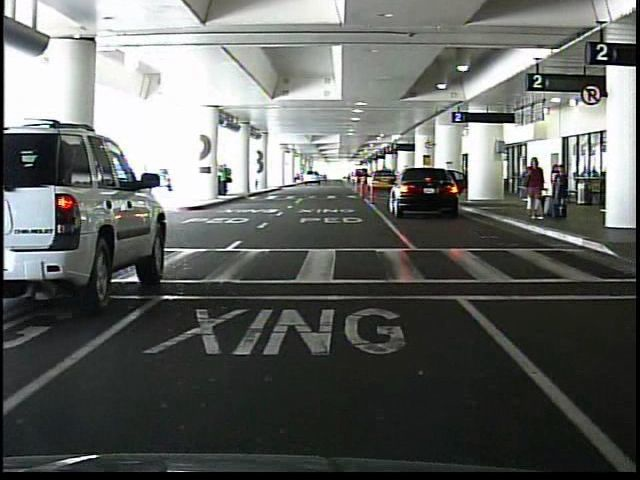person: (519, 155, 545, 218), (551, 164, 570, 220), (219, 163, 233, 197), (551, 165, 562, 200)
